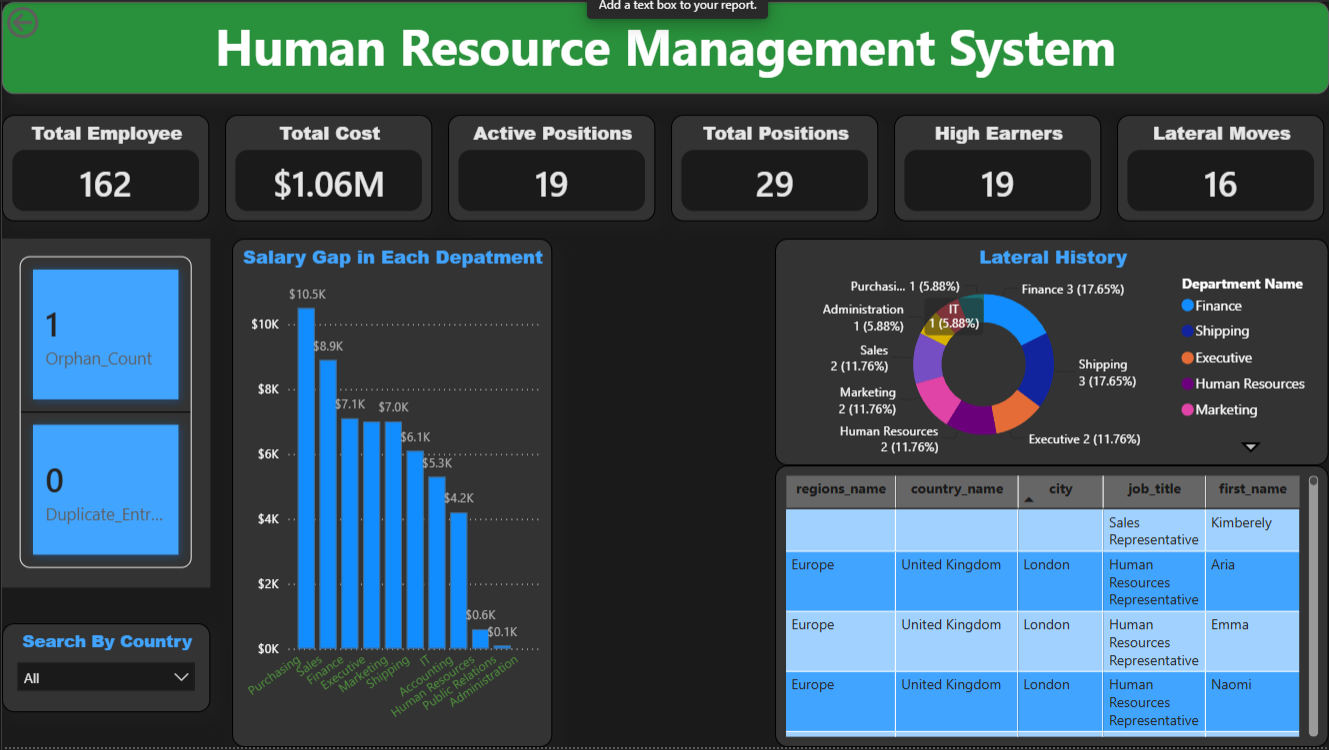

The page's visual inventory and layout, read from the dashboard file:
{"tool":"powerbi","page":{"name":"Page 1","canvas":[1280,720],"ordinal":0},"visuals":[{"type":"textbox","box":[0,0,1280,89.5],"z":0},{"type":"cardVisual","title":"Total Employee ","fields":{"Data":["Count(employees.employee_id)"]},"box":[0,109.4,200.4,103.3],"z":1000},{"type":"cardVisual","title":"Total Cost","fields":{"Data":["Sum(employees.salary)"]},"box":[214.7,109.4,200.4,103.3],"z":2000},{"type":"cardVisual","title":"Active Positions","fields":{"Data":["Count(employees.job_id)"]},"box":[430.4,109.4,200.4,103.3],"z":3000},{"type":"cardVisual","title":"Total Positions","fields":{"Data":["Count(jobs.job_id)"]},"box":[645.1,109.4,200.4,103.3],"z":4000},{"type":"tableEx","fields":{"Values":["regions.regions_name","countries.country_name","locations.city","jobs.job_title","employees.first_name"]},"box":[745.6,447.6,534.4,272],"z":5000},{"type":"clusteredColumnChart","title":"Salary Gap in Each Depatment","fields":{"Y":["All Measure.Salary_Gap"],"Category":["departments.department_name"]},"box":[221.9,228.6,308.7,491],"z":6000},{"type":"cardVisual","title":"High Earners","fields":{"Data":["All Measure.High_Earner_Count"]},"box":[860.8,109.4,200.4,103.3],"z":7000},{"type":"cardVisual","title":"Lateral Moves","fields":{"Data":["All Measure.Lateral_Transfers"]},"box":[1075.5,109.4,200.4,103.3],"z":8000},{"type":"donutChart","title":"Lateral History","fields":{"Y":["Count(job_history.employee_id)"],"Category":["departments.department_name"]},"box":[745.6,228.6,534.4,219],"z":9000},{"type":"cardVisual","fields":{"Data":["All Measure.Orphan_Count","Sum(All Measure.Duplicate_Entries_Count)"]},"box":[0,228.6,200.6,336.6],"z":10000},{"type":"actionButton","box":[0,0,100,40],"z":11000},{"type":"slicer","title":"Search By Country","fields":{"Values":["countries.country_name"]},"box":[0,600,200.6,85.8],"z":12000}]}

Visuals, with their boxes on the page's 1280x720 design canvas (x1, y1, x2, y2). These are canvas units, not pixel positions in the 1329x750 screenshot, which may show the page scaled, cropped or inside an application window:
textbox: region(0, 0, 1280, 90)
"Total Employee " cardVisual: region(0, 109, 200, 213)
"Total Cost" cardVisual: region(215, 109, 415, 213)
"Active Positions" cardVisual: region(430, 109, 631, 213)
"Total Positions" cardVisual: region(645, 109, 846, 213)
tableEx - regions.regions_name x countries.country_name: region(746, 448, 1280, 720)
"Salary Gap in Each Depatment" clusteredColumnChart: region(222, 229, 531, 720)
"High Earners" cardVisual: region(861, 109, 1061, 213)
"Lateral Moves" cardVisual: region(1076, 109, 1276, 213)
"Lateral History" donutChart: region(746, 229, 1280, 448)
cardVisual - All Measure.Orphan_Count x Sum(All Measure.Duplicate_Entries_Count): region(0, 229, 201, 565)
actionButton: region(0, 0, 100, 40)
"Search By Country" slicer: region(0, 600, 201, 686)
